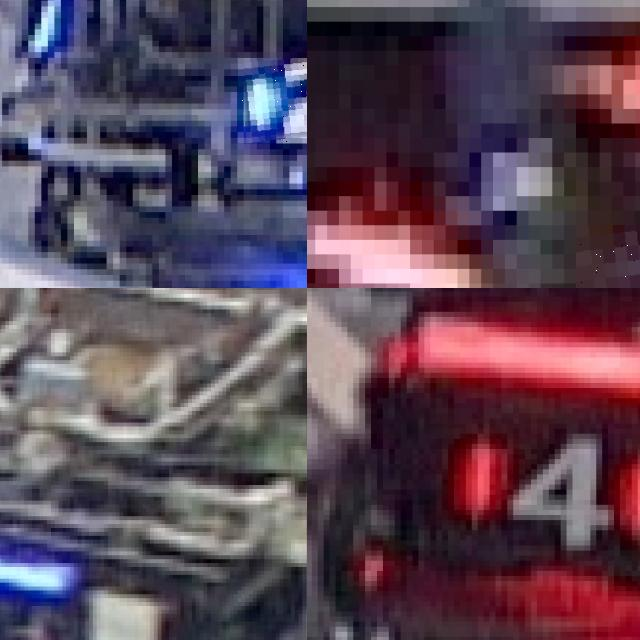B2: (237, 57, 307, 143)
R4: (444, 426, 640, 548)
